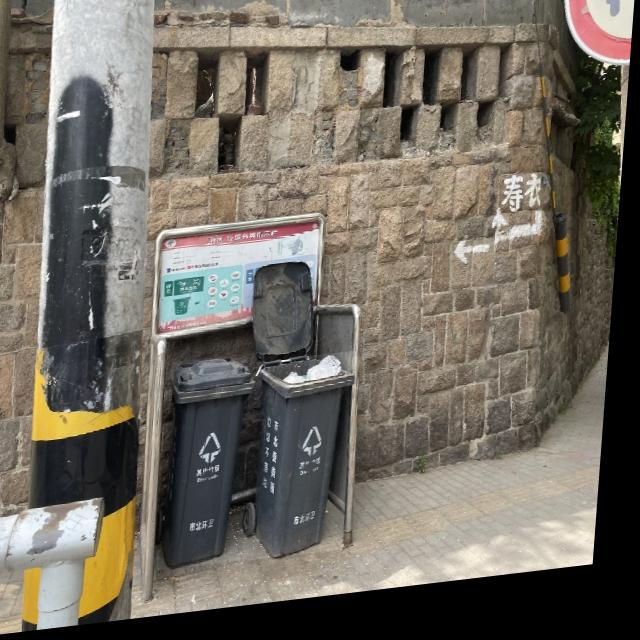garbage_bin: (166, 359, 263, 575)
overflow: (251, 360, 363, 568)
